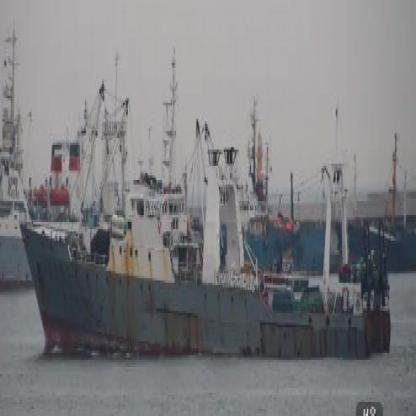fish-b: (11, 44, 396, 398)
